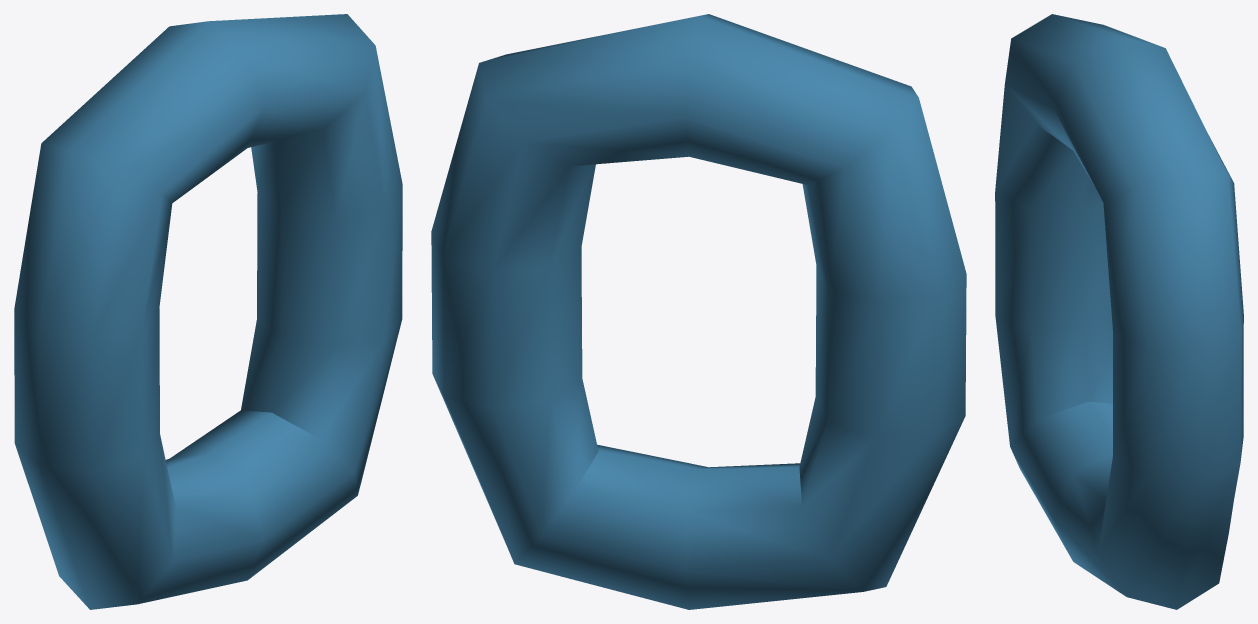
The model's file is Mesh_CadenaV2.fbx.
The picture shows the model from 3 angles, left to right: view 1: azimuth 30°, elevation 25°; view 2: azimuth 150°, elevation 25°; view 3: azimuth 270°, elevation 25°; orthographic projection. The views are drawn at different scales.
Parts seen in each view (by area): view 1: Mesh_CadenaV2; view 2: Mesh_CadenaV2; view 3: Mesh_CadenaV2.
Boxes of the visible parts, left/top/right/bottom form: Mesh_CadenaV2: left=14, top=14, right=402, bottom=609; Mesh_CadenaV2: left=431, top=14, right=966, bottom=609; Mesh_CadenaV2: left=995, top=14, right=1243, bottom=609.
Bounding box in the file's own units: 45.07 × 57.29 × 24.06.
